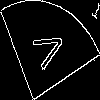V: (25, 25, 67, 75)
